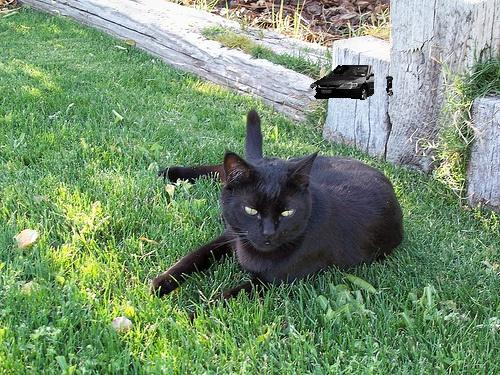tampered: (311, 66, 393, 100)
